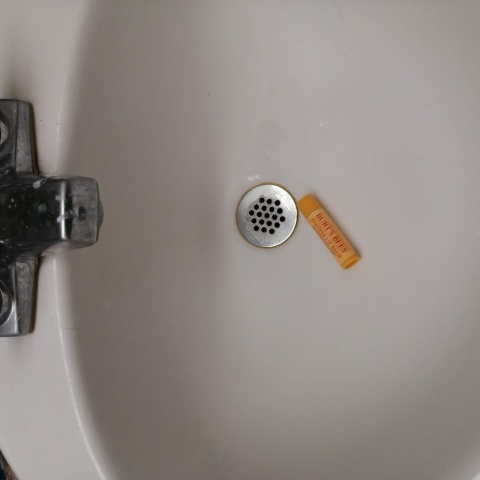chapstick: (295, 193, 362, 272)
